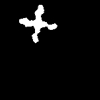single_crochet: (19, 5, 56, 42)
